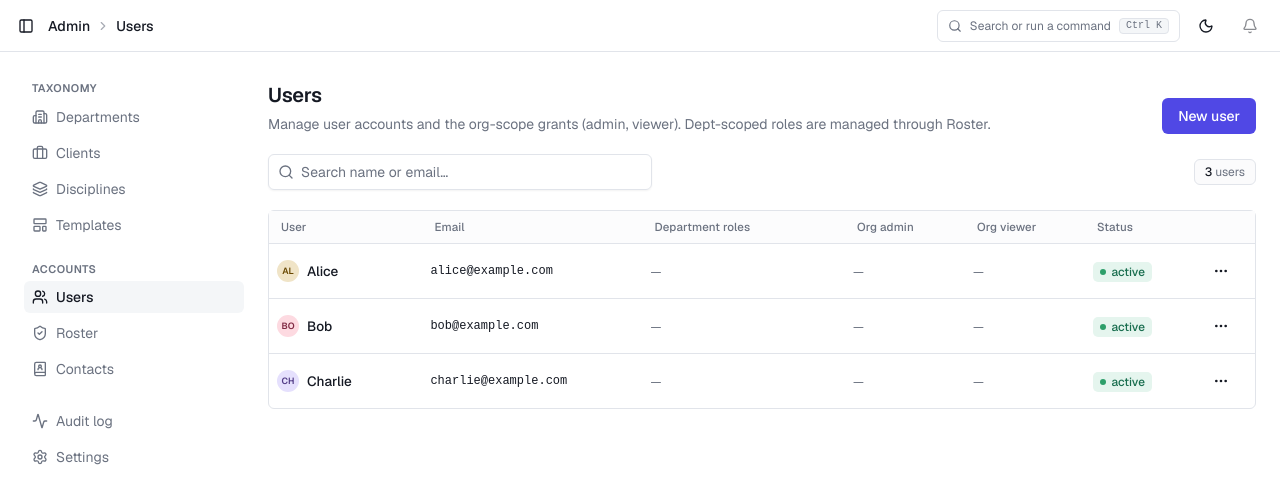
UsersManagePage › filters via the client-side search
This screenshot has width=1280, height=482.
Expected: the text "alice@example.com" is shown, [422,244,642,299]
Expected: the text "bob@example.com" is shown, [422,299,642,354]
Type "alic" into the field named "search users". click: (460, 172)
box: [268,154,652,190]
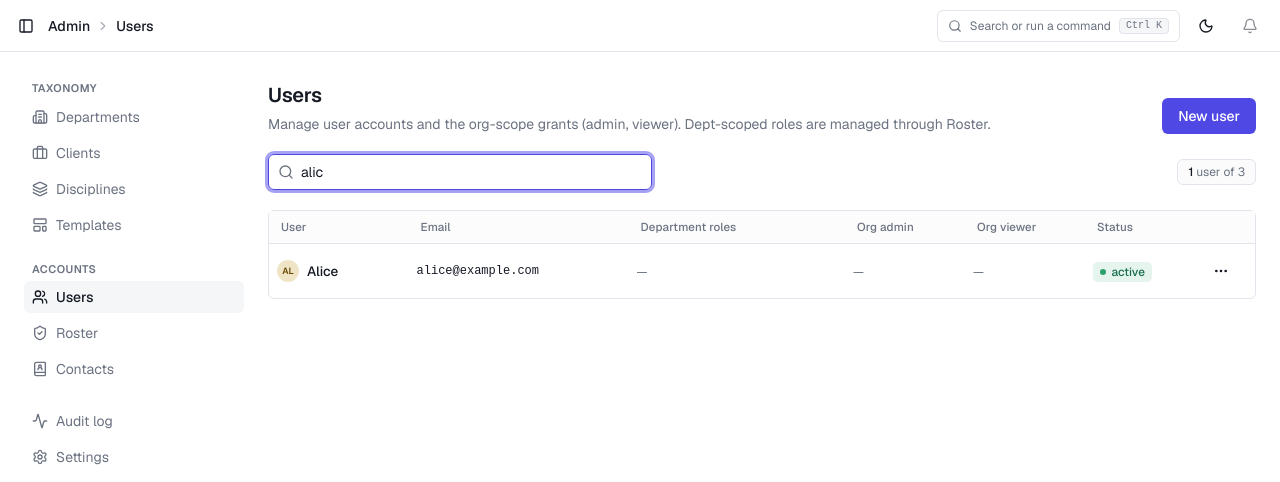
Expected: the text "alice@example.com" is shown, [409,244,629,298]
Expected: the text "bob@example.com" is gone
Expected: the text "charlie@example.com" is gone
